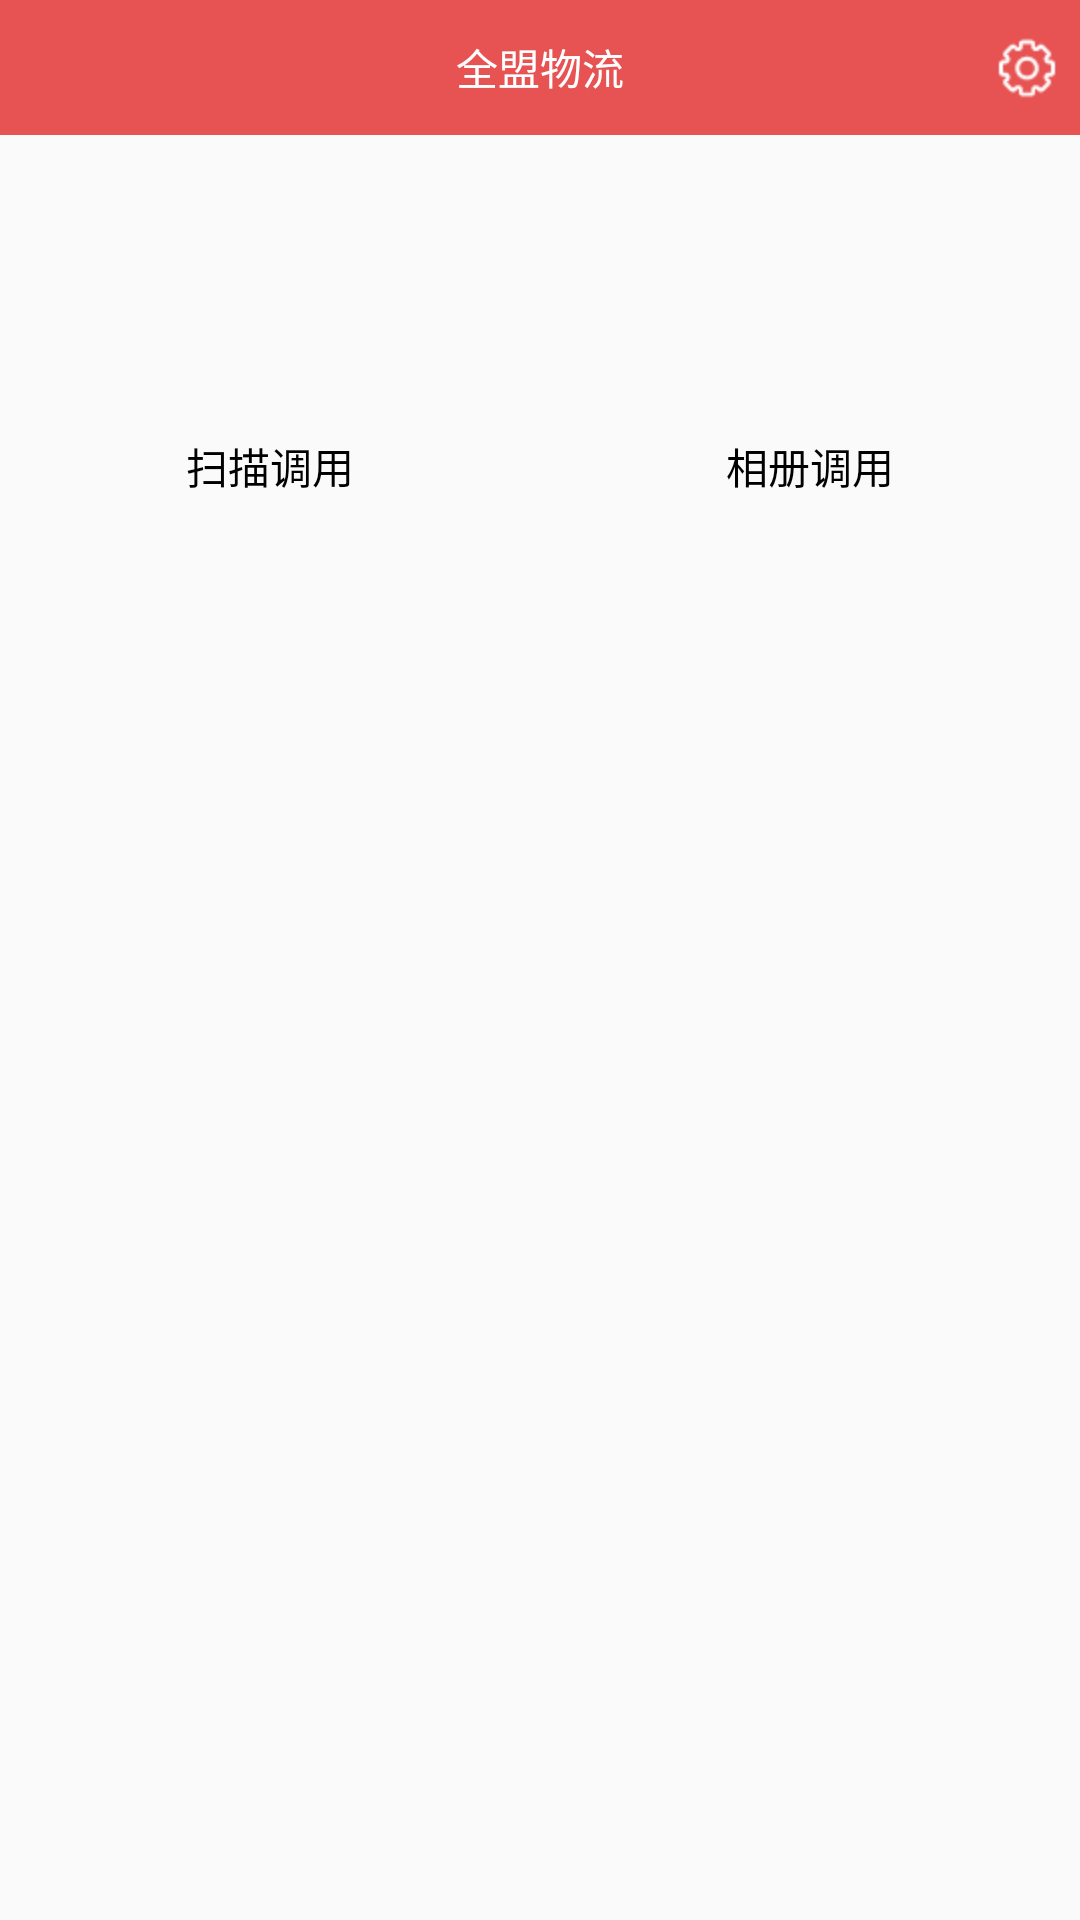

Point at icon controls on the screen. Image size 1080 x 1920, points as (x=x, y=y).
setting: (x=1027, y=68)
